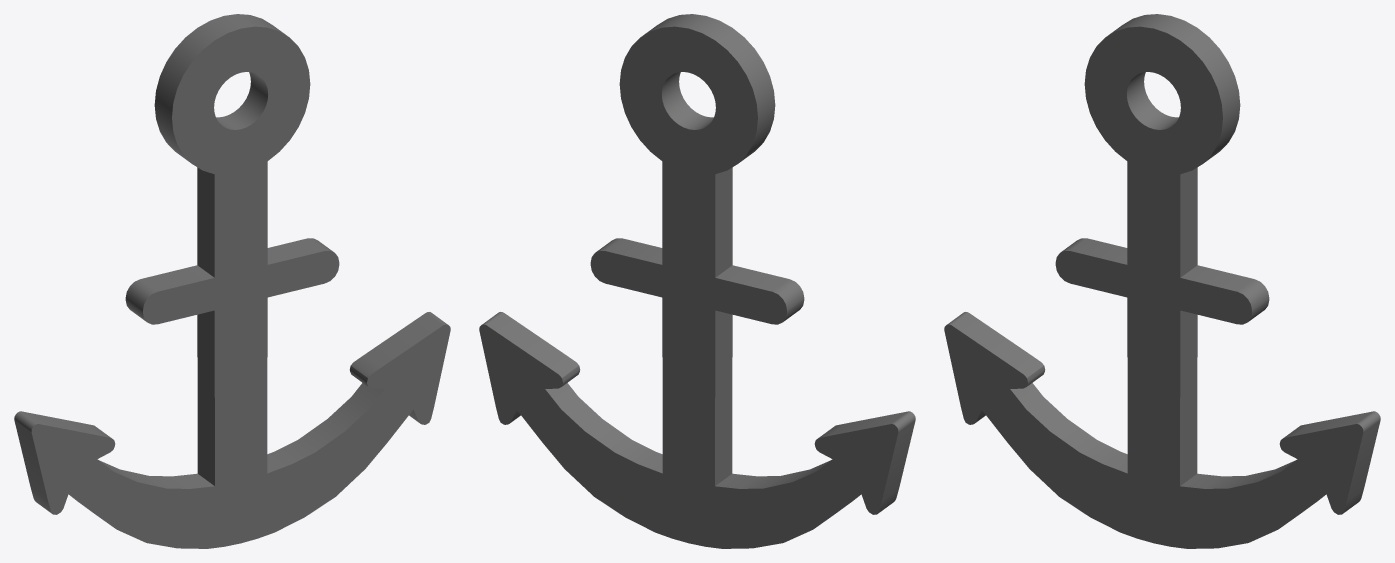
The model's file is anchor.glb.
3 renders of one model, left to right at view 1: azimuth 30°, elevation 25°; view 2: azimuth 150°, elevation 25°; view 3: azimuth 330°, elevation 25°, orthographic.
Visible parts, largest first — view 1: Circle.2399; view 2: Circle.2399; view 3: Circle.2399.
Part boxes in pixels (box(x1,y1,x2,y2)): Circle.2399: box(14, 14, 450, 548); Circle.2399: box(479, 14, 915, 548); Circle.2399: box(944, 14, 1380, 548).
Size of the model in its own units: 1.95 by 2.29 by 0.1394.
Materials: 1 (1 with a texture image).
